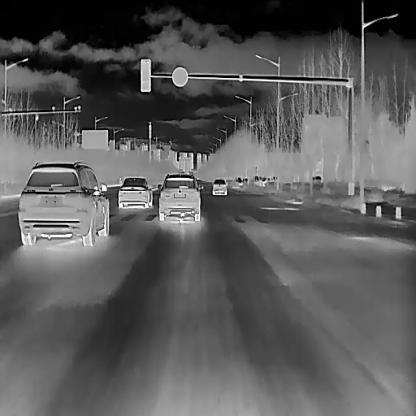car: (18, 161, 109, 245), (156, 172, 203, 221), (117, 176, 152, 208), (211, 178, 227, 195), (234, 176, 242, 185)
